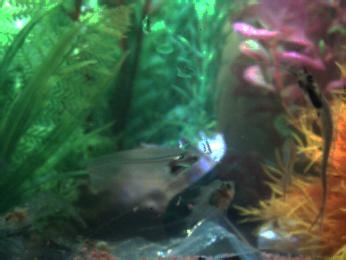X-ray fish: (178, 179, 238, 230), (277, 135, 296, 198)
glassfish: (288, 63, 338, 233), (85, 144, 203, 187)
siberian prawn: (1, 188, 87, 238), (52, 233, 168, 260)
